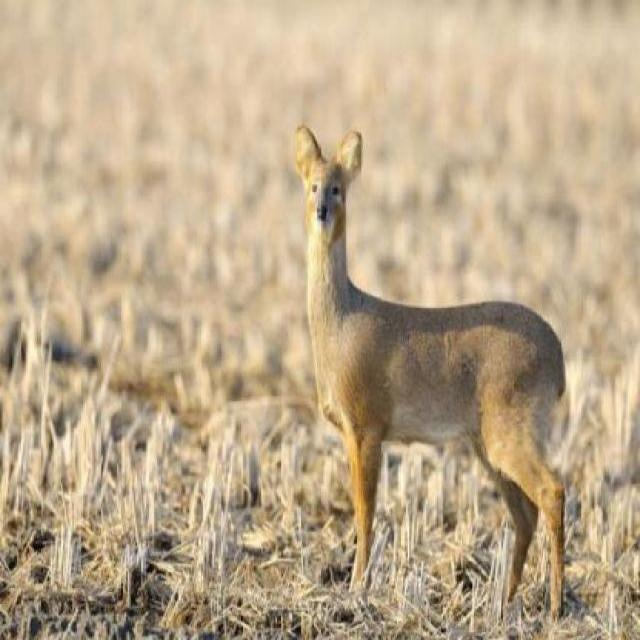deer: (296, 123, 578, 625)
